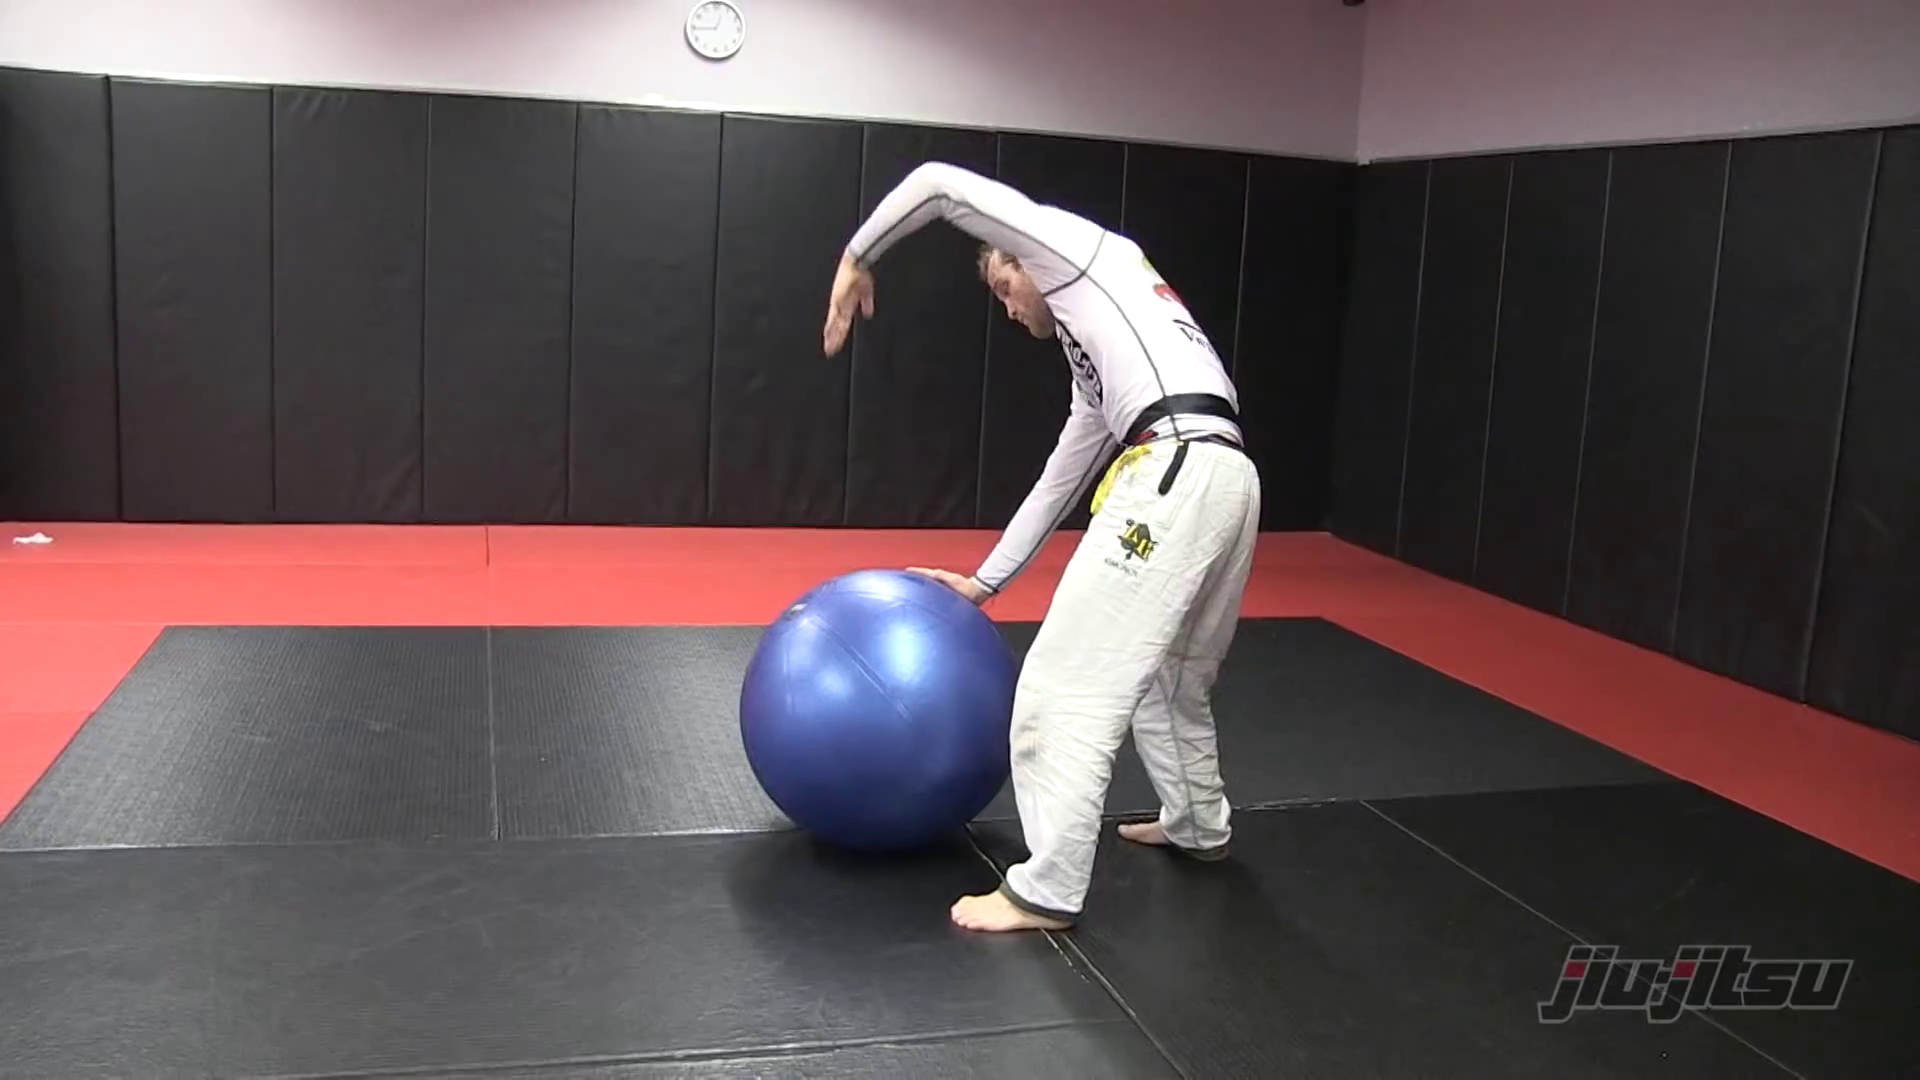yogaball: (708, 546, 1025, 870)
